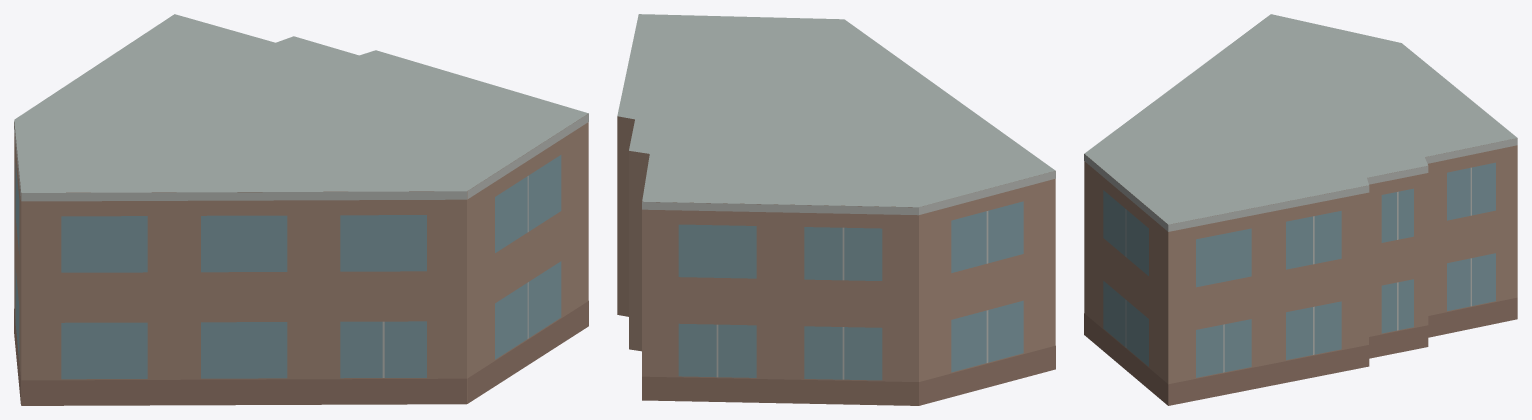
The model's file is survey-upis-32669895.glb.
3 views of the same model, side by side, from view 1: azimuth 30°, elevation 25°; view 2: azimuth 150°, elevation 25°; view 3: azimuth 270°, elevation 25° (orthographic). The views are drawn at different scales.
Visible parts, largest first — view 1: survey-upis-32669895.tmp; view 2: survey-upis-32669895.tmp; view 3: survey-upis-32669895.tmp.
Boxes of the visible parts, bbox=[...] form: survey-upis-32669895.tmp: bbox=[14, 14, 588, 405]; survey-upis-32669895.tmp: bbox=[617, 14, 1055, 405]; survey-upis-32669895.tmp: bbox=[1084, 14, 1517, 405].
Bounding box in the file's own units: 15.22 × 6.1 × 13.24.
